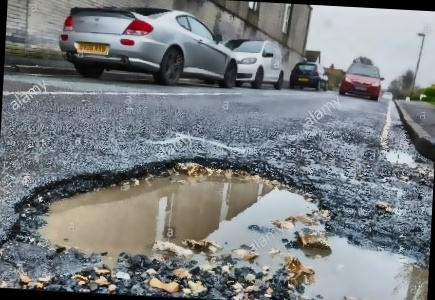pothole: (6, 142, 340, 290), (274, 222, 430, 300), (381, 146, 415, 166)
